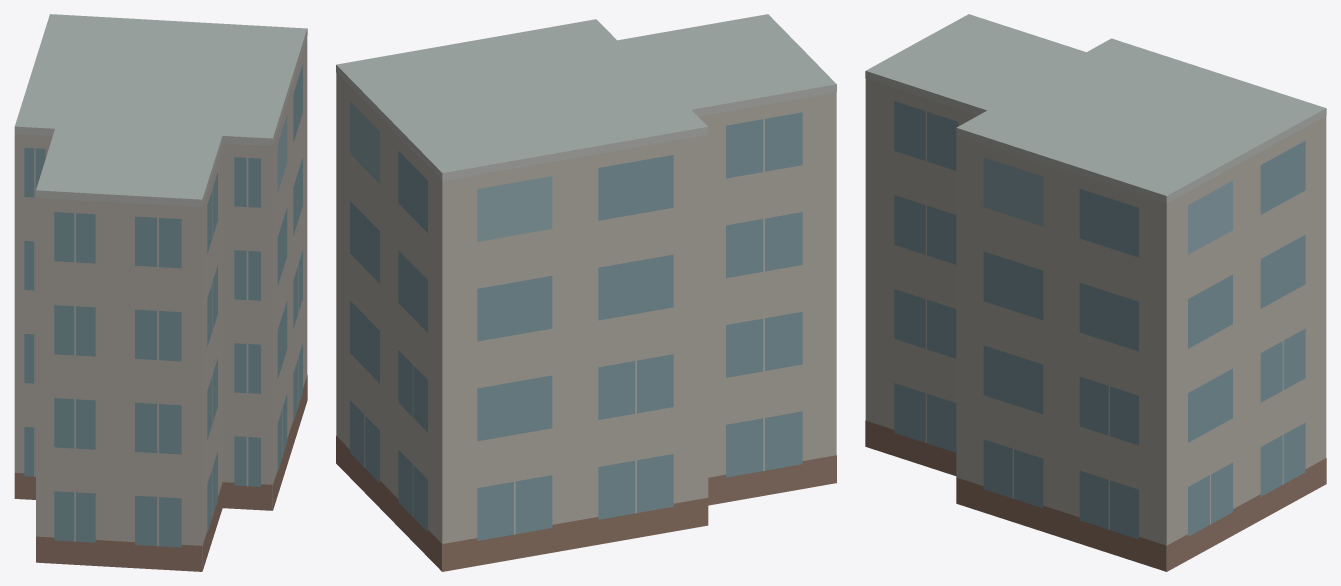
The model's file is residential-42bdad2e-0a70-426c-a890-4c87e0c4212a.glb.
The picture shows the model from 3 angles, left to right: view 1: azimuth 30°, elevation 25°; view 2: azimuth 150°, elevation 25°; view 3: azimuth 270°, elevation 25°; orthographic projection. The views are drawn at different scales.
Parts seen in each view (by area): view 1: residential-42bdad2e-0a70-426c-a890-4c87e0c4212a.tmp; view 2: residential-42bdad2e-0a70-426c-a890-4c87e0c4212a.tmp; view 3: residential-42bdad2e-0a70-426c-a890-4c87e0c4212a.tmp.
Part boxes in pixels (x1,y1,x2,y2): residential-42bdad2e-0a70-426c-a890-4c87e0c4212a.tmp: (14,14,307,571); residential-42bdad2e-0a70-426c-a890-4c87e0c4212a.tmp: (336,14,836,571); residential-42bdad2e-0a70-426c-a890-4c87e0c4212a.tmp: (865,14,1326,571).
Size of the model in its own units: 12.68 by 12.2 by 13.57.
